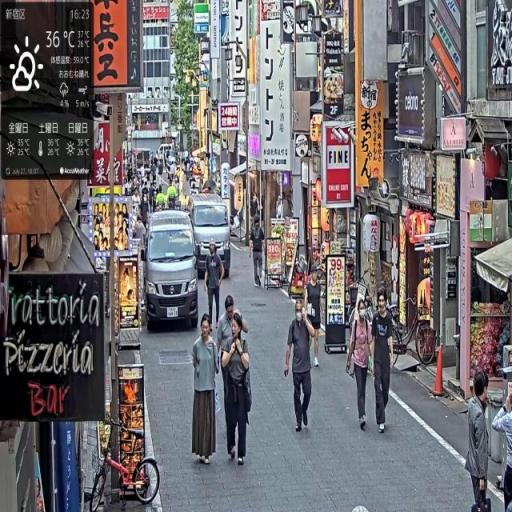person: (284, 298, 321, 435), (222, 315, 254, 468), (191, 315, 222, 468), (370, 291, 398, 437), (466, 371, 493, 512), (348, 297, 375, 436), (493, 385, 512, 512), (305, 268, 324, 371), (204, 240, 225, 332), (250, 214, 267, 289)
